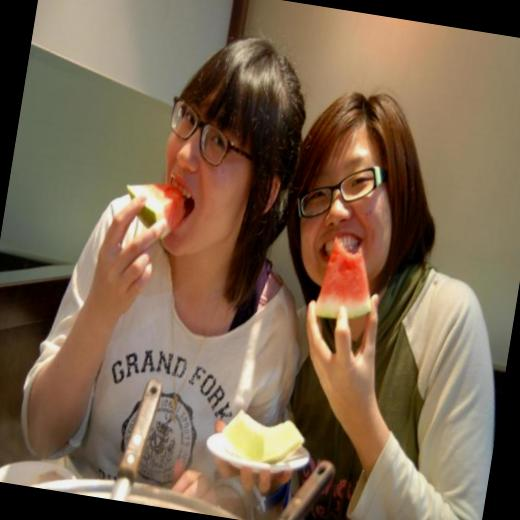Cherry: (314, 234, 384, 320), (120, 178, 190, 244)
